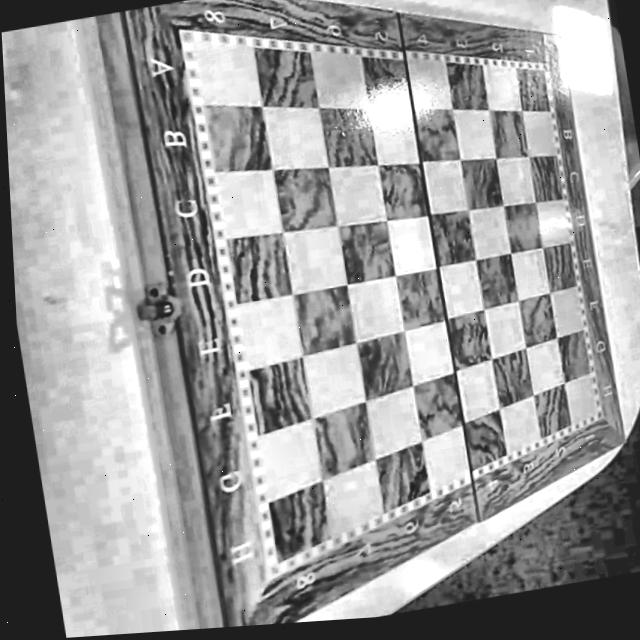chessboard: (131, 0, 623, 627)
